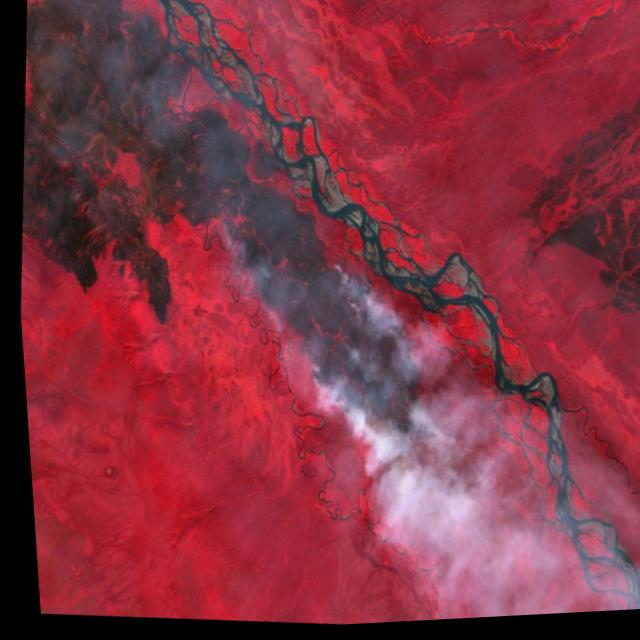fire: (289, 247, 454, 460)
